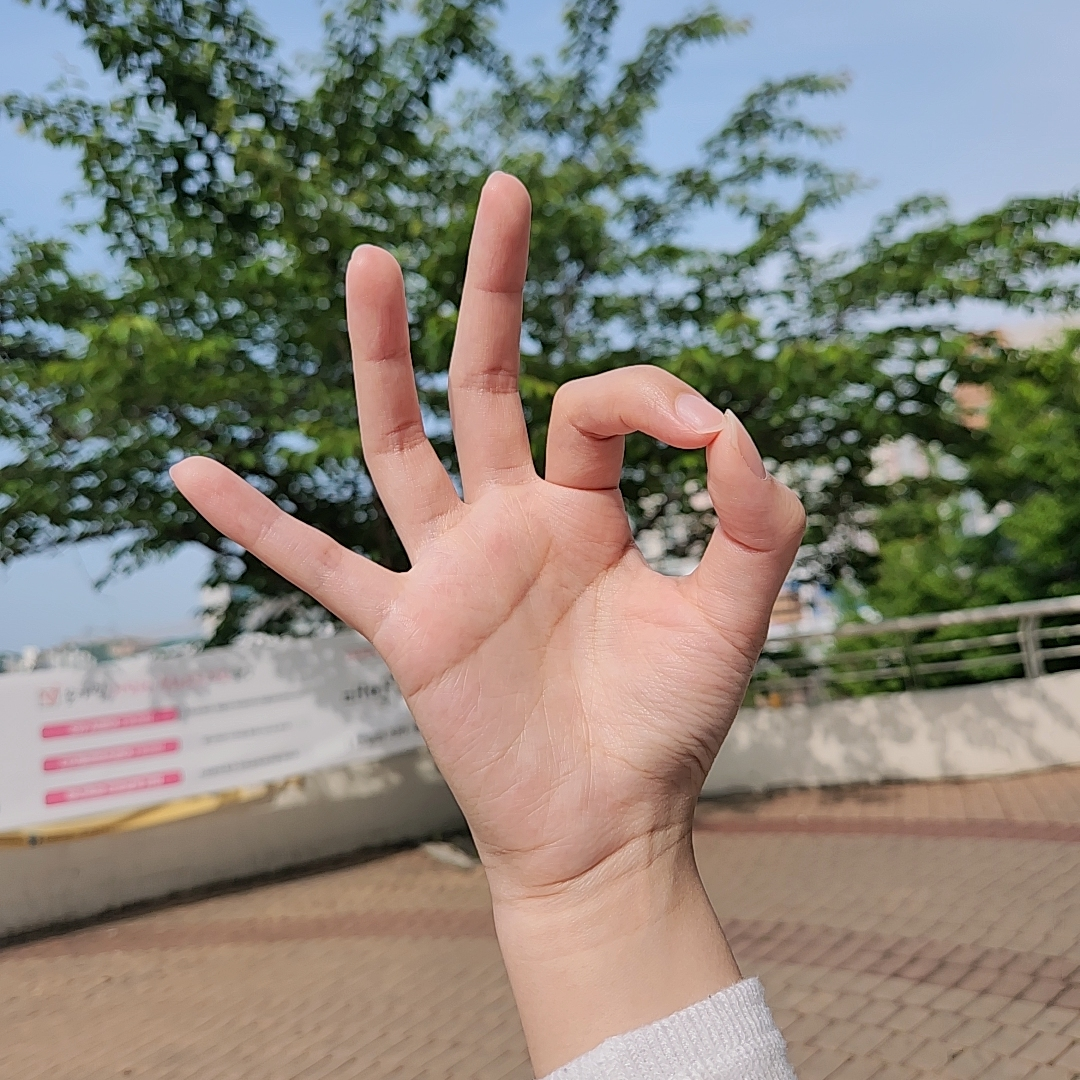see: (168, 169, 809, 827)
